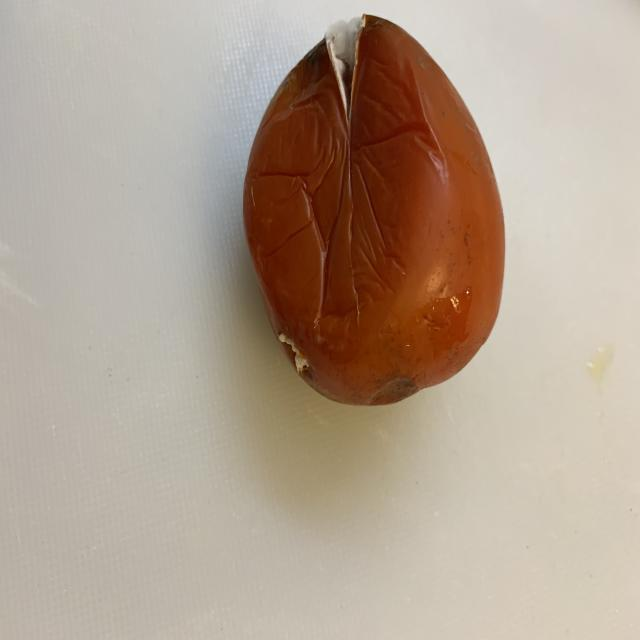Wet Waste: (223, 13, 513, 416)
